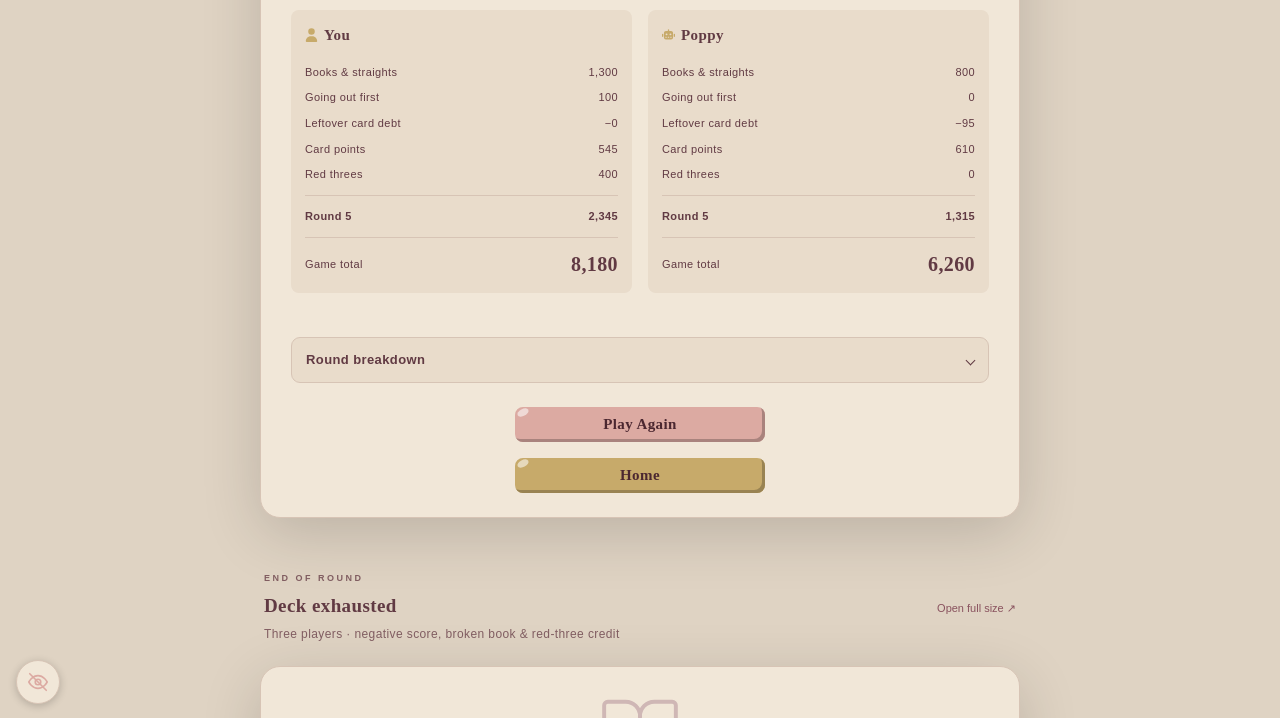
Test: keeps the requested round details and only shows the full round breakdown at game end
(page scrolled)
Click the heading "Round breakdown". click: (366, 360)
box: [306, 352, 975, 367]
(page scrolled)
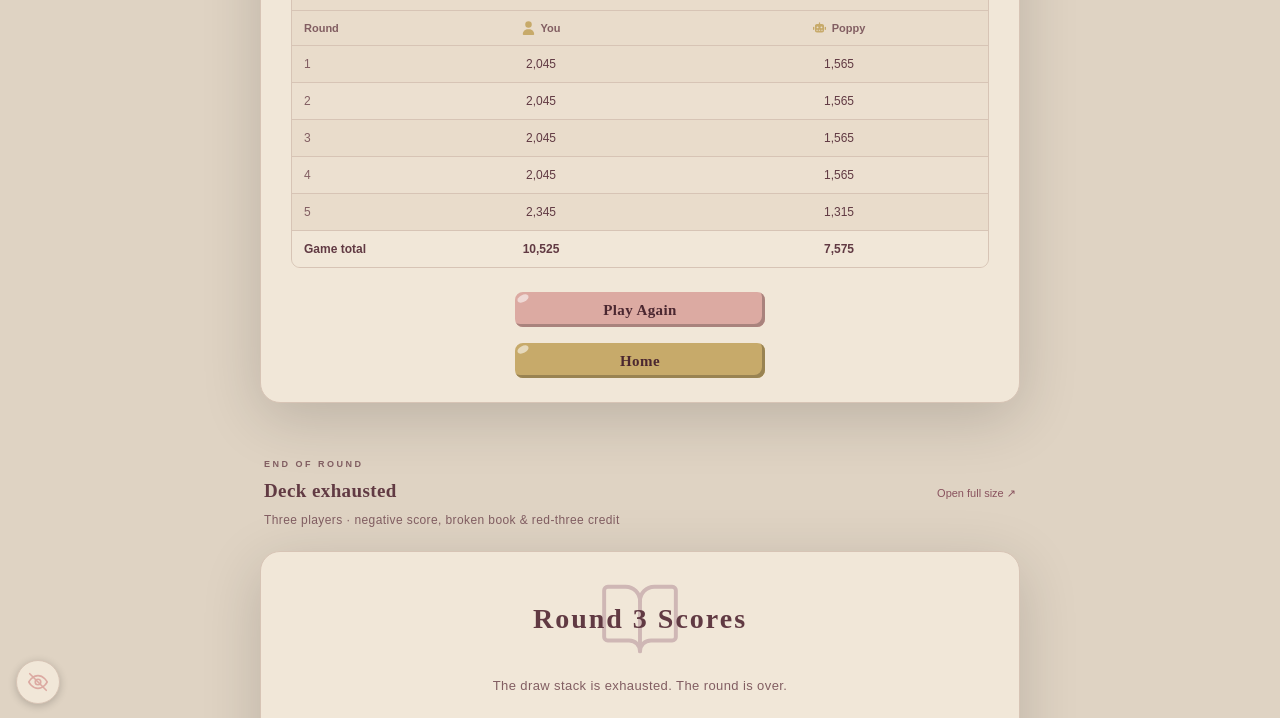
Expected: the button "Home" is shown, [515, 343, 765, 378]
Now the number of rows is 7
